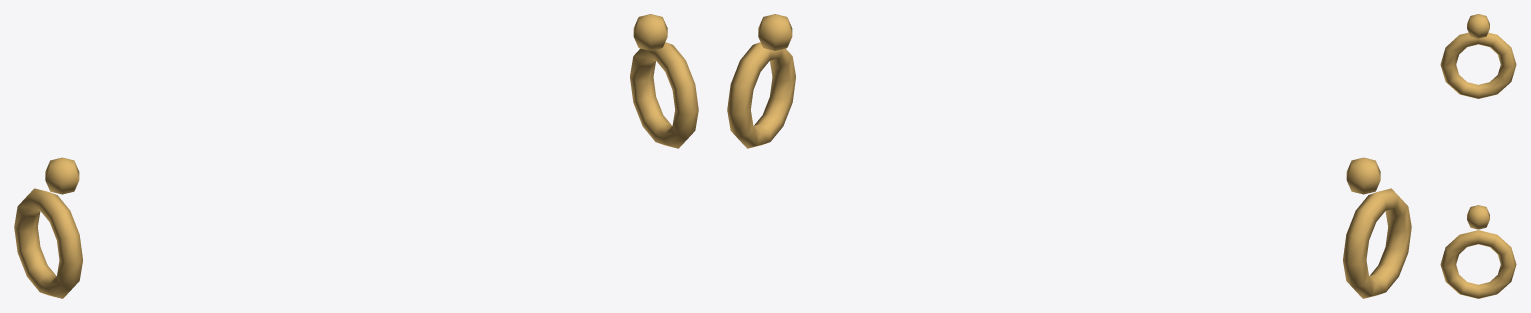
The model's file is earrings_f.glb.
3 renders of one model, left to right at view 1: azimuth 30°, elevation 25°; view 2: azimuth 150°, elevation 25°; view 3: azimuth 270°, elevation 25°, orthographic. The views are drawn at different scales.
Visible parts, largest first — view 1: hair; view 2: hair; view 3: hair.
Part boxes in pixels (left/top/right/bottom): hair: left=14, top=14, right=698, bottom=298; hair: left=727, top=14, right=1411, bottom=298; hair: left=1440, top=14, right=1516, bottom=298.
Size of the model in its own units: 0.1856 by 0.0375 by 0.029.
